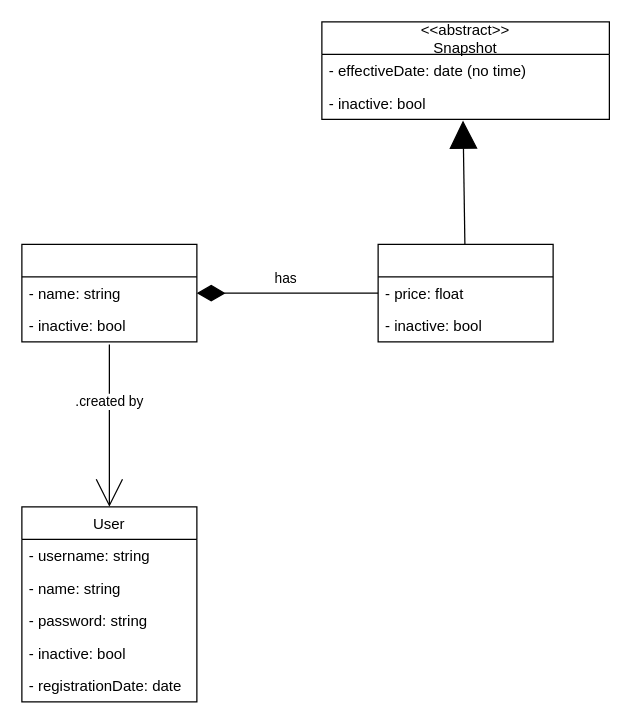
Some shapes in this 631 by 728 pixel diagram are drawn without their labels. The box of each missing label's shape, as (x1, y1, x2, y2) in pixels:
Item: (21, 243, 197, 342)
Item Snapshot: (377, 243, 553, 342)
